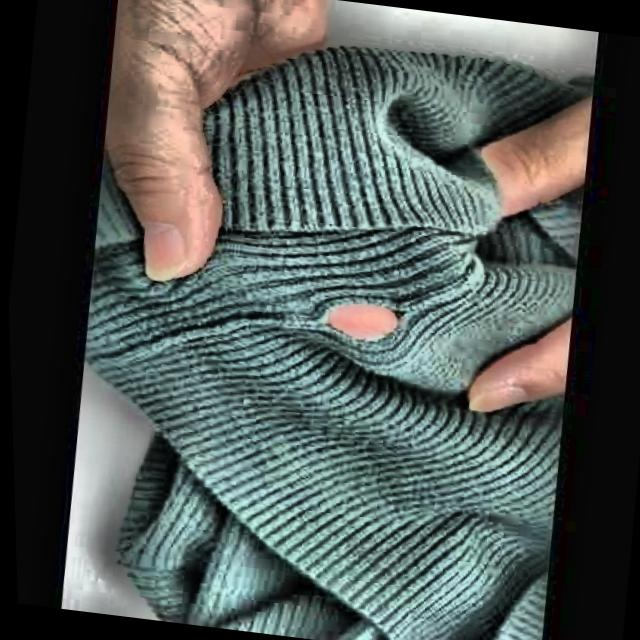seam: (276, 252, 450, 395), (297, 266, 426, 375)
